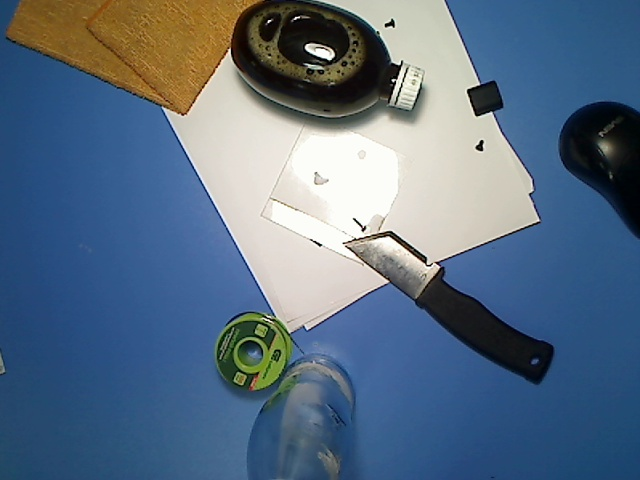plast_bottle: (226, 1, 426, 125)
